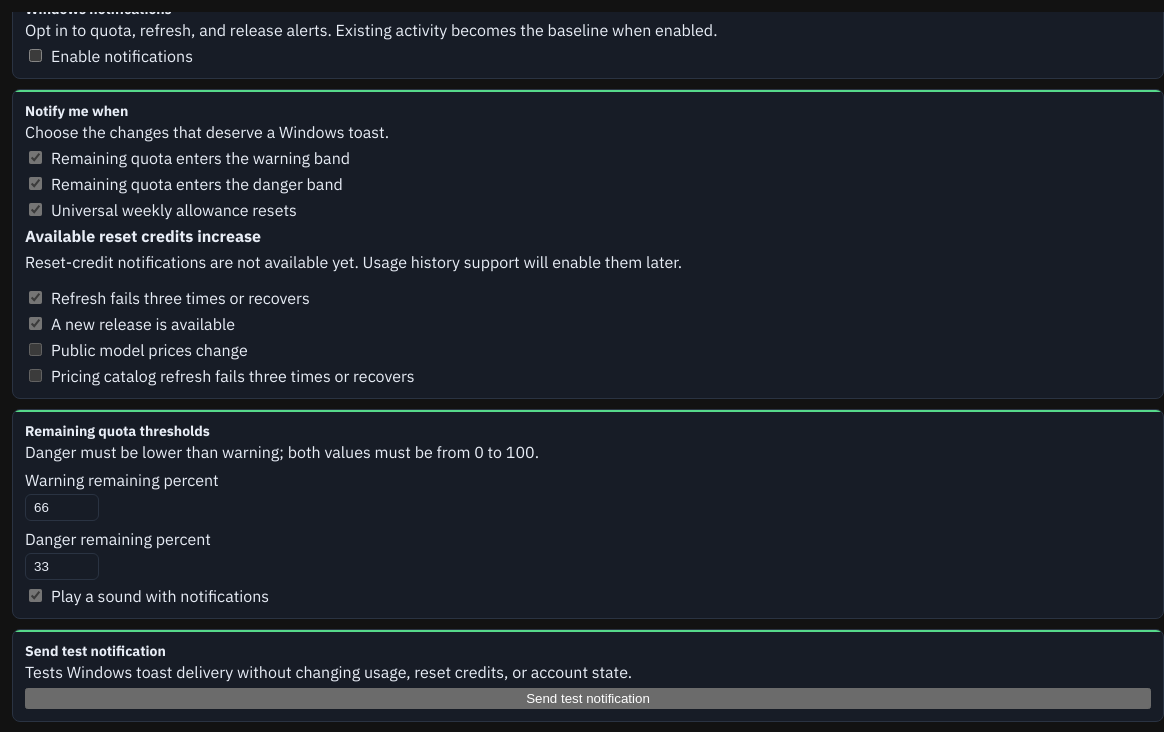
Test: NotificationsTab › maps a failed test action to a localized inline diagnostic
(page scrolled)
Click the button "Send test notification".
click(588, 698)  # box x1=25 y1=688 x2=1151 y2=709
(page scrolled)
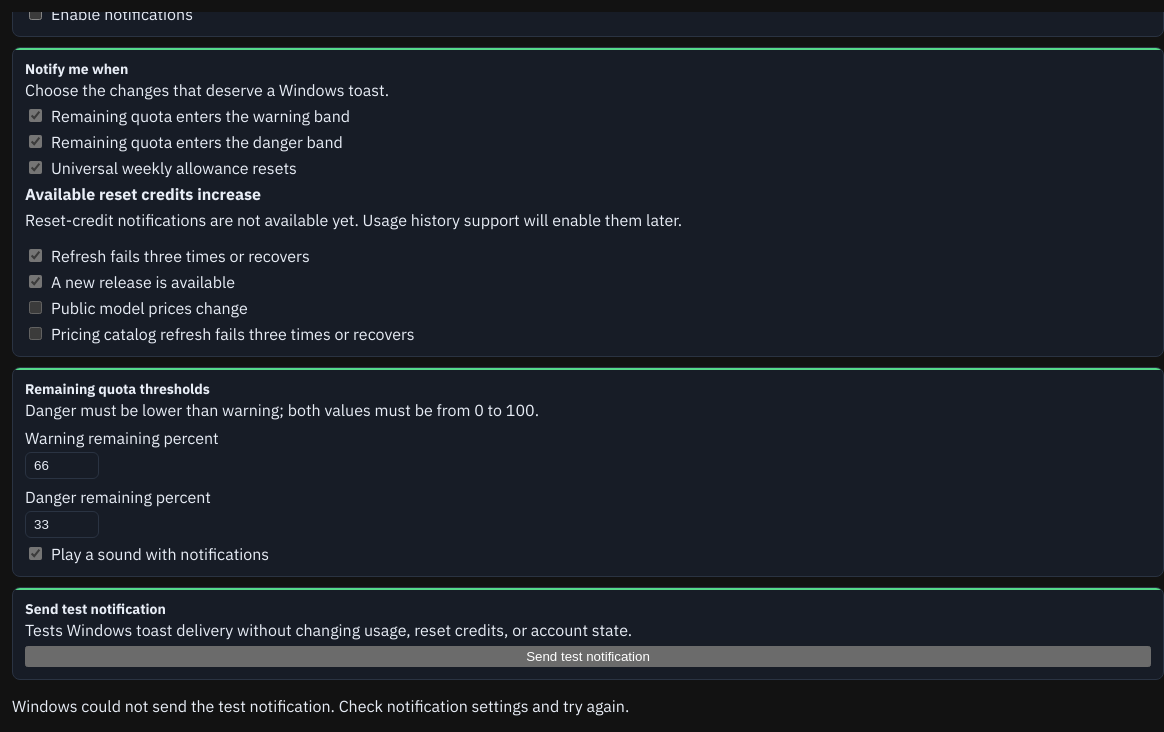
Result: the message shows "Windows could not send the test notification. Check notification settings and try again." at x1=12 y1=696 x2=629 y2=716
